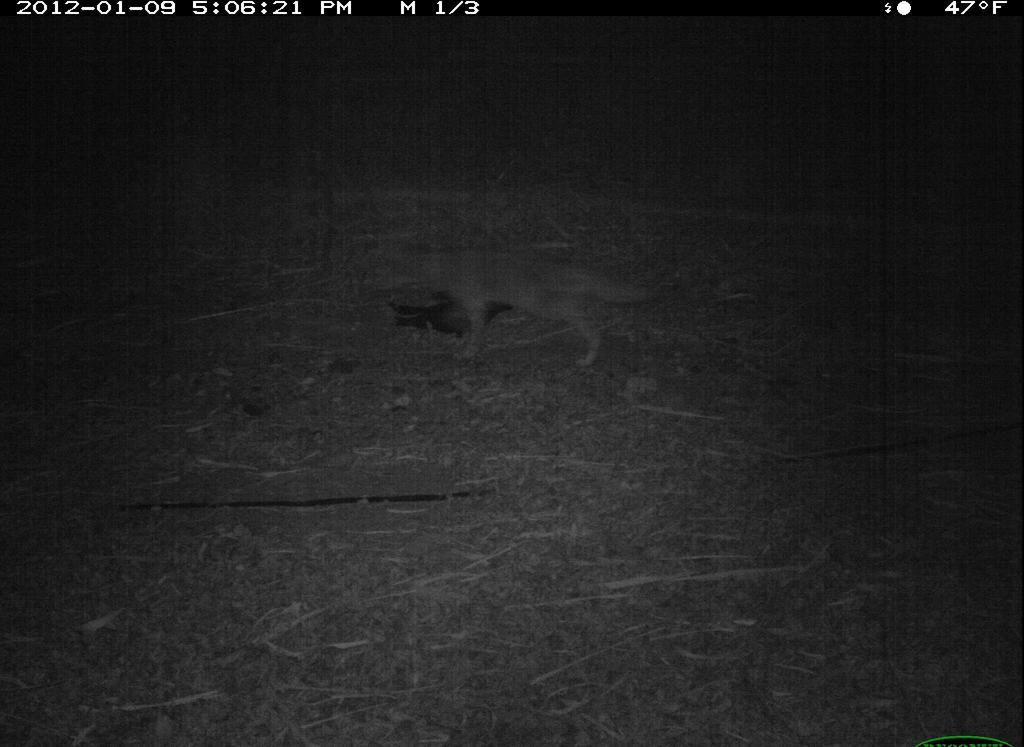coyote: (382, 232, 678, 382)
